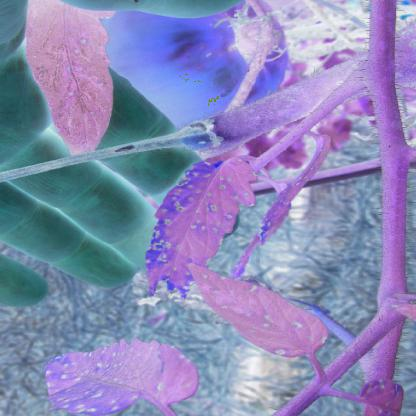Tomato Septoria leaf spot: (142, 146, 250, 300), (37, 340, 236, 411), (188, 264, 330, 357)
